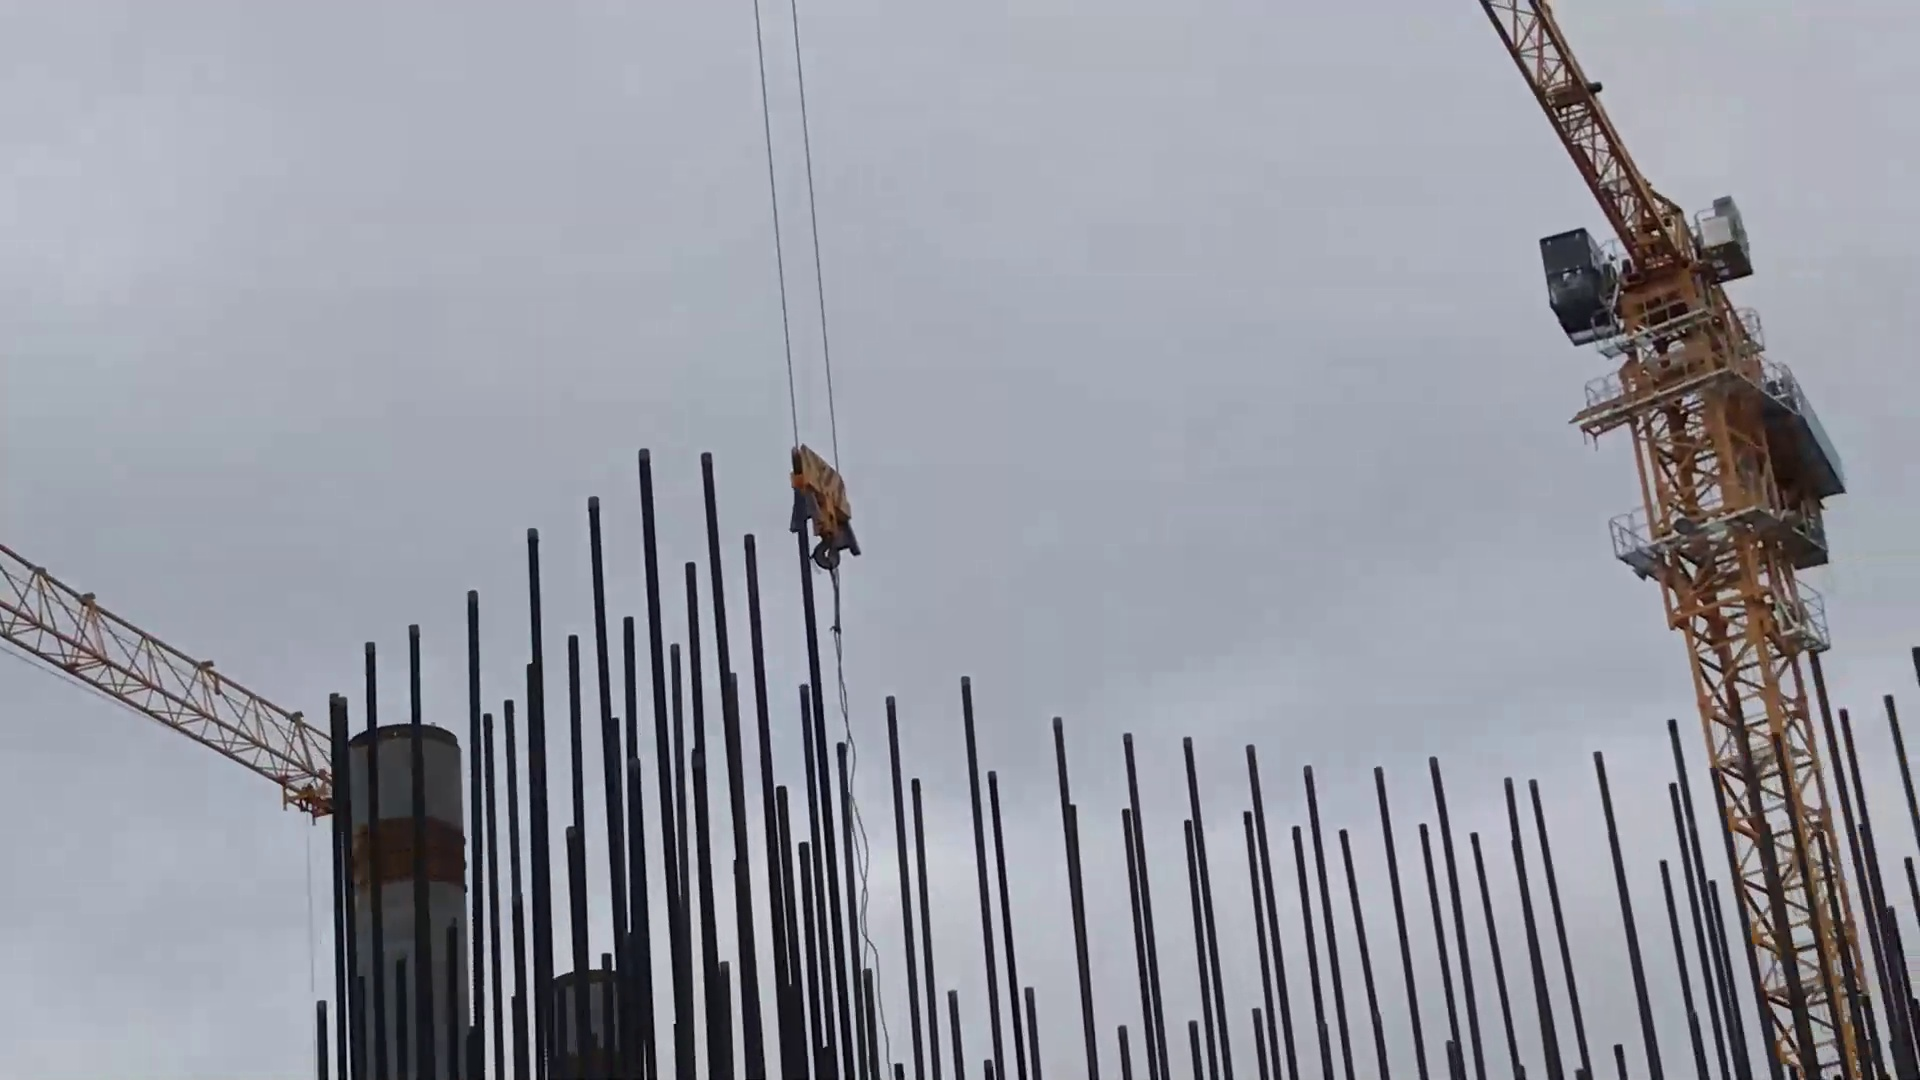hook: (770, 427, 897, 599)
